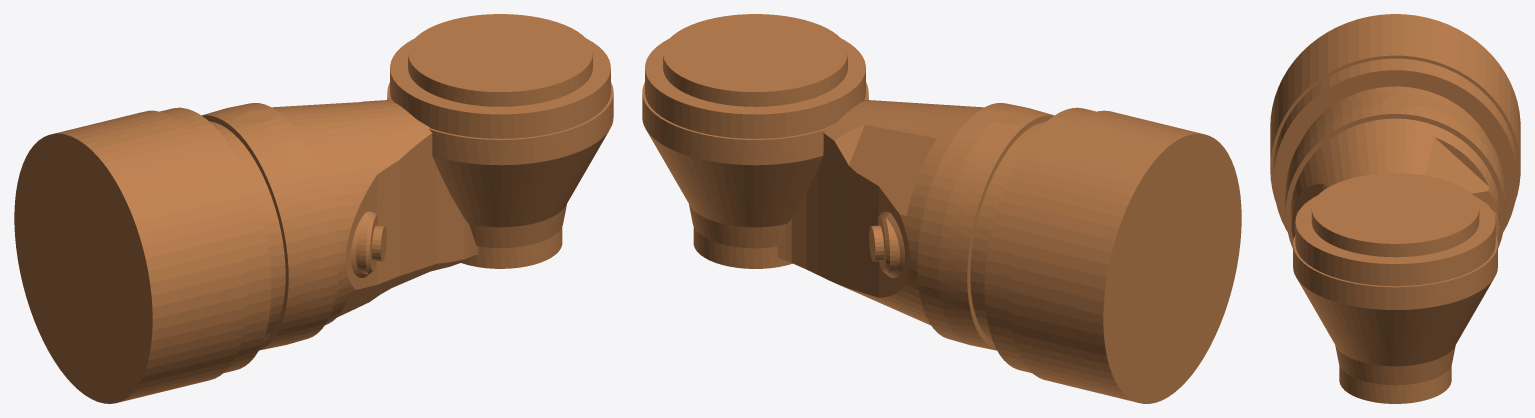
3 views of the same model, side by side, from view 1: azimuth 30°, elevation 25°; view 2: azimuth 150°, elevation 25°; view 3: azimuth 270°, elevation 25° (orthographic). The views are drawn at different scales.
Visible parts, largest first — view 1: /Link_4/Link_4_001-mesh/0; view 2: /Link_4/Link_4_001-mesh/0; view 3: /Link_4/Link_4_001-mesh/0.
Boxes of the visible parts, x1,y1,x2,y2 form: /Link_4/Link_4_001-mesh/0: [14, 14, 613, 403]; /Link_4/Link_4_001-mesh/0: [642, 14, 1241, 403]; /Link_4/Link_4_001-mesh/0: [1270, 14, 1520, 403].
Bounding box in the file's own units: 0.331 × 0.154 × 0.154.
